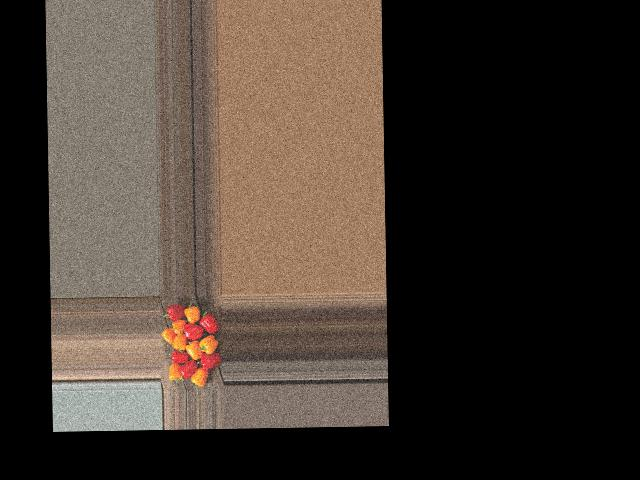bell_pepper: (190, 362, 212, 387)
